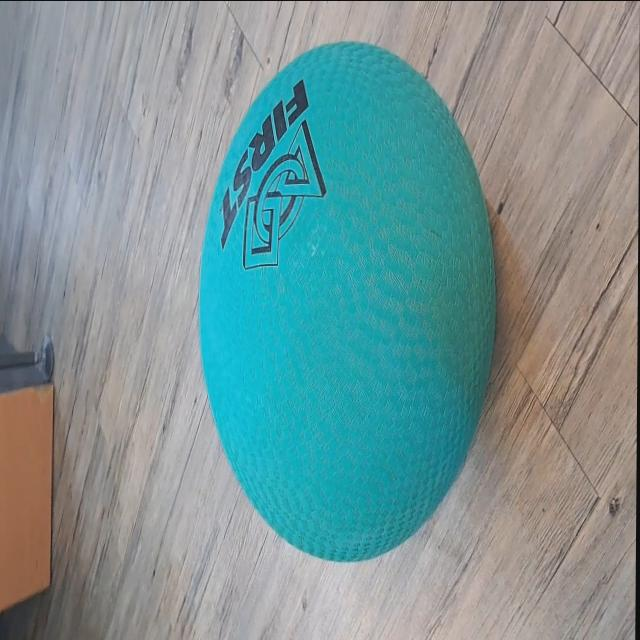ALGAE: (195, 39, 499, 565)
